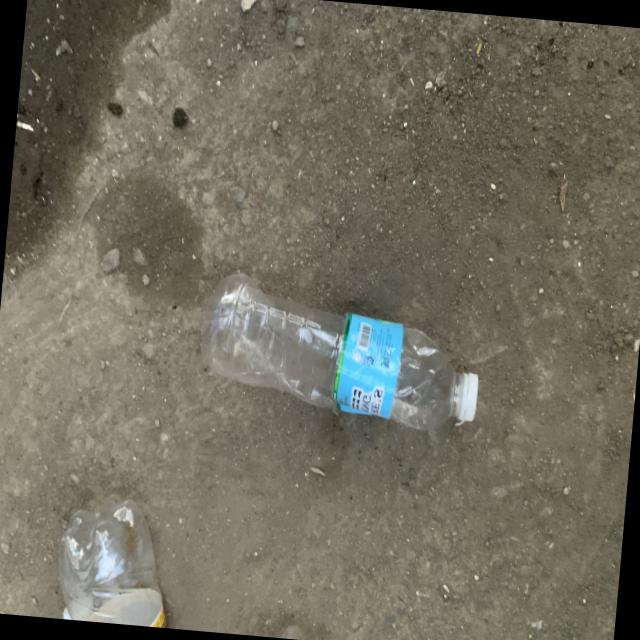Bottle: (201, 272, 478, 428)
